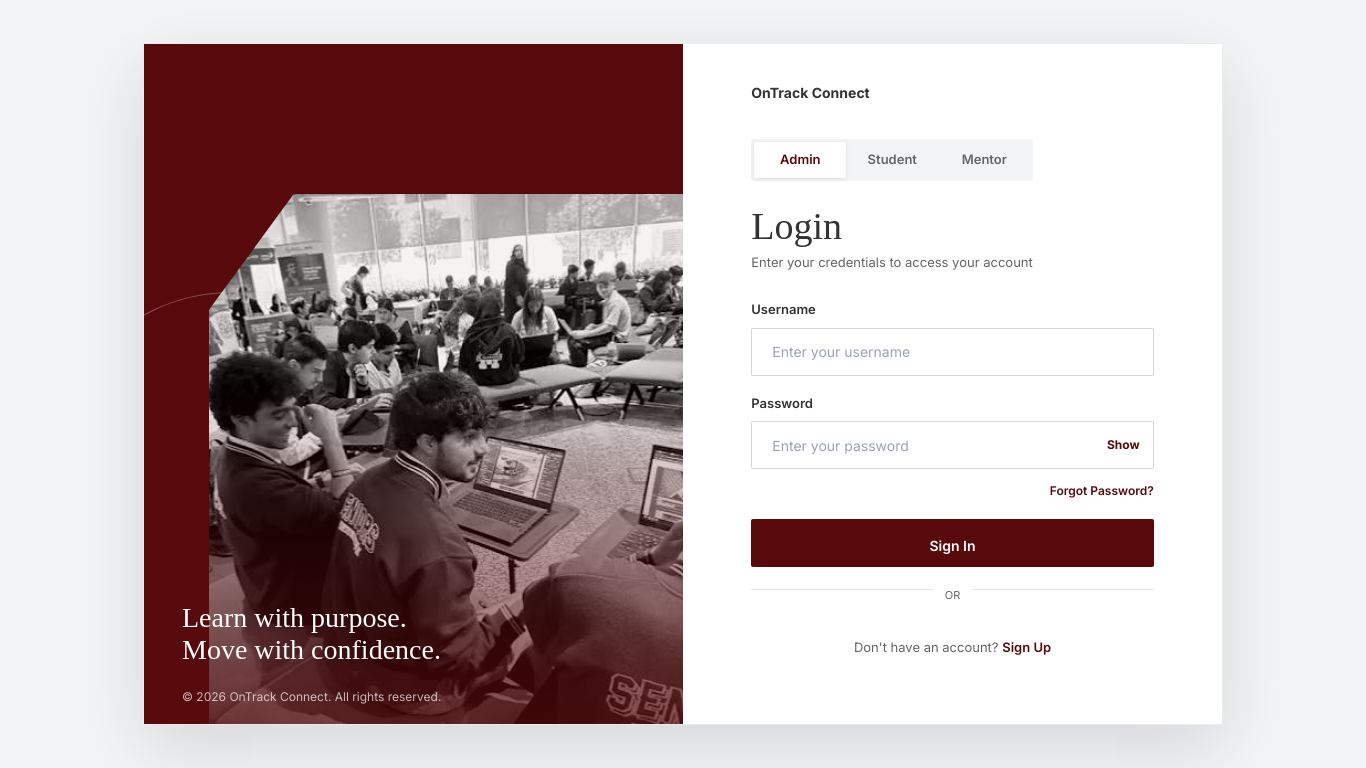
Test: a mentor can sign in and reach the mentor dashboard
This screenshot has width=1366, height=768.
Click the tab "Mentor".
click(984, 160)  # box [938,142,1030,178]
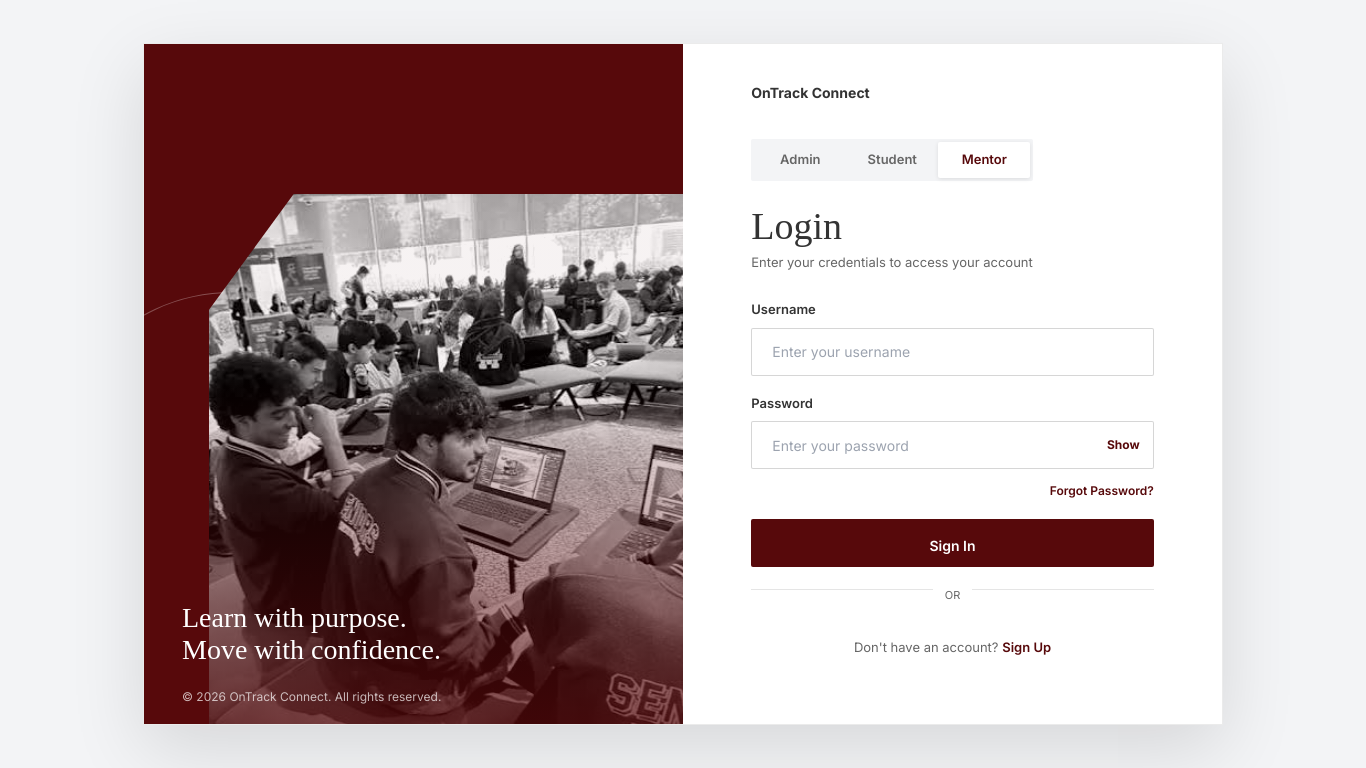
Type "mentor" into the field labelled "Username".
click(952, 352); type("mentor")  # box [751,328,1154,376]
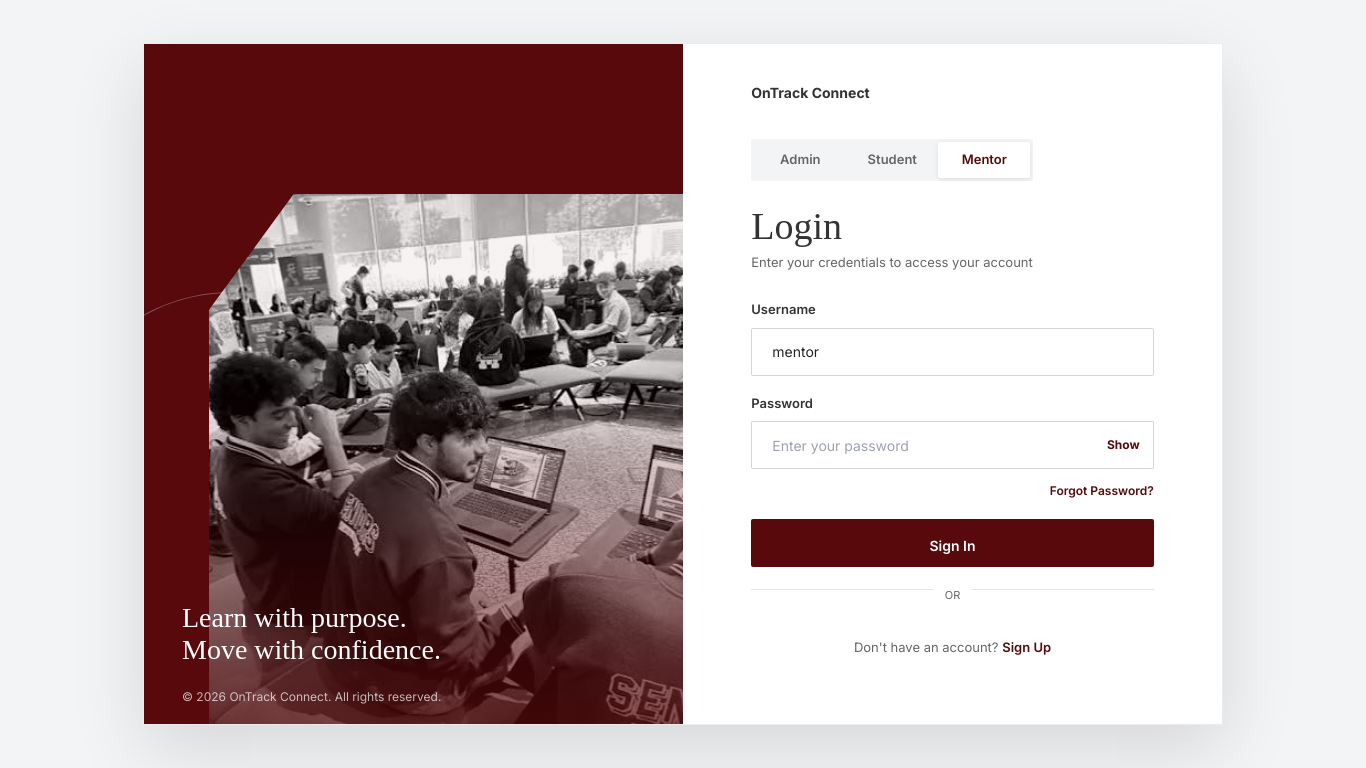
Type "strong password" into the password field labelled "Password".
click(952, 445); type("strong password")  # box [751,421,1154,469]
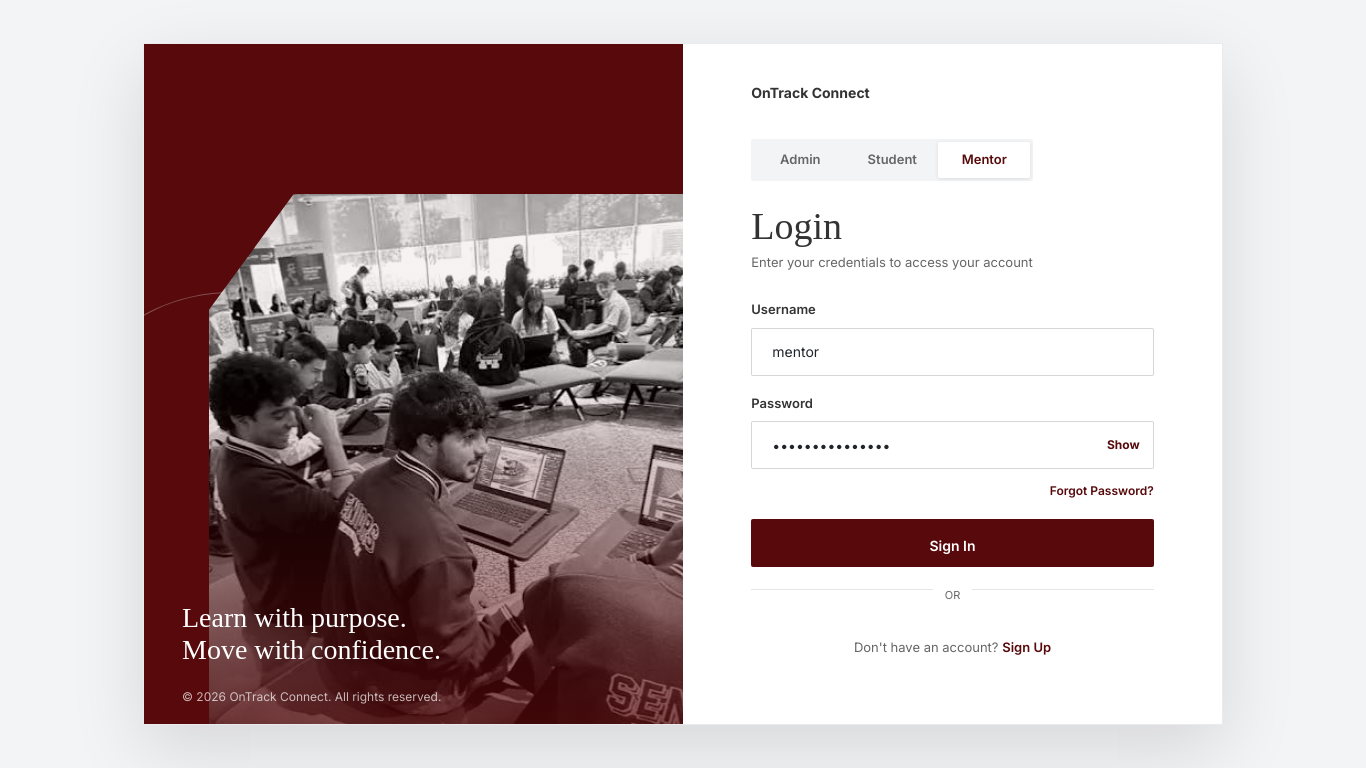
Click the button "Sign In".
click(952, 543)  # box [751,519,1154,567]
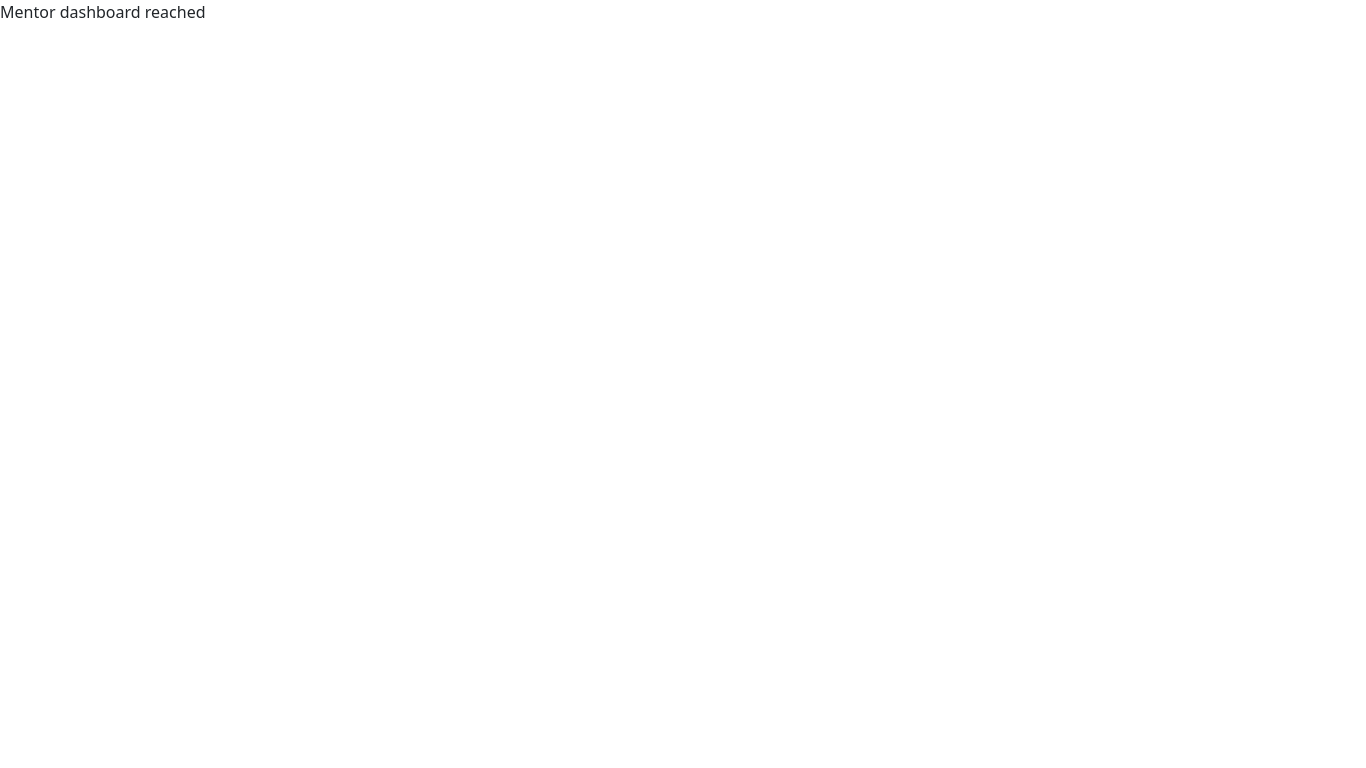
Expected: the text "Mentor dashboard reached" is shown, [0,1,206,23]
